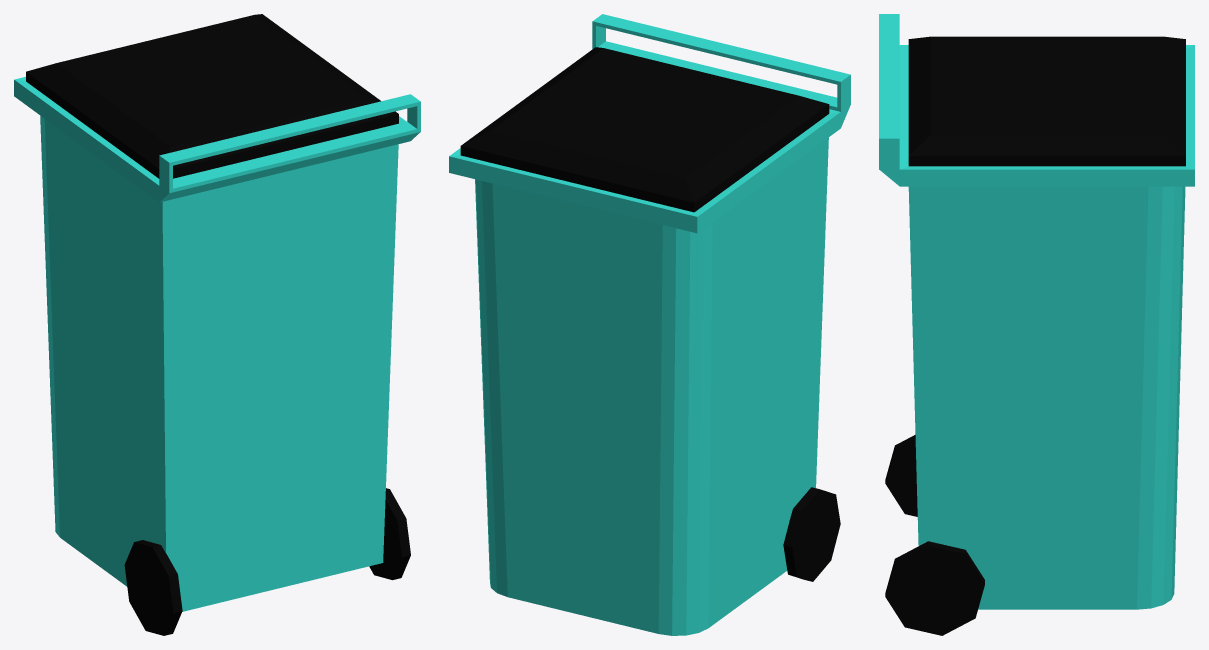
Rendered from trashbin.fbx.
3 renders of one model, left to right at view 1: azimuth 30°, elevation 25°; view 2: azimuth 150°, elevation 25°; view 3: azimuth 270°, elevation 25°, orthographic. The views are drawn at different scales.
Parts seen in each view (by area): view 1: trash bin; view 2: trash bin; view 3: trash bin.
Boxes of the visible parts, x1,y1,x2,y2 form: trash bin: (14, 14, 420, 635); trash bin: (449, 14, 850, 635); trash bin: (879, 14, 1194, 635).
Bounding box in the file's own units: 111 × 207 × 119.
